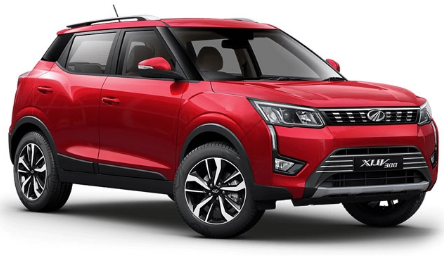car: (7, 13, 438, 245)
